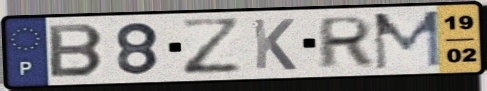8: (114, 20, 163, 77)
B: (46, 23, 108, 79)
K: (250, 17, 299, 72)
M: (371, 8, 444, 72)
R: (315, 14, 376, 71)
Z: (177, 17, 246, 78)
